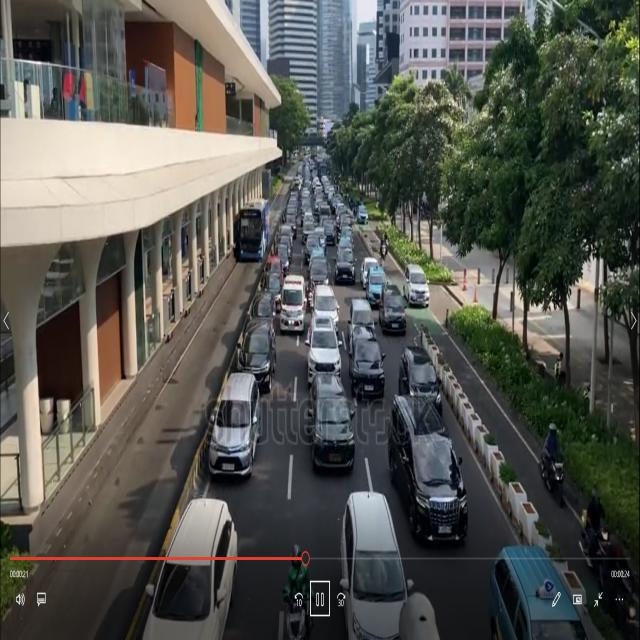Ambulance: (279, 271, 309, 338)
